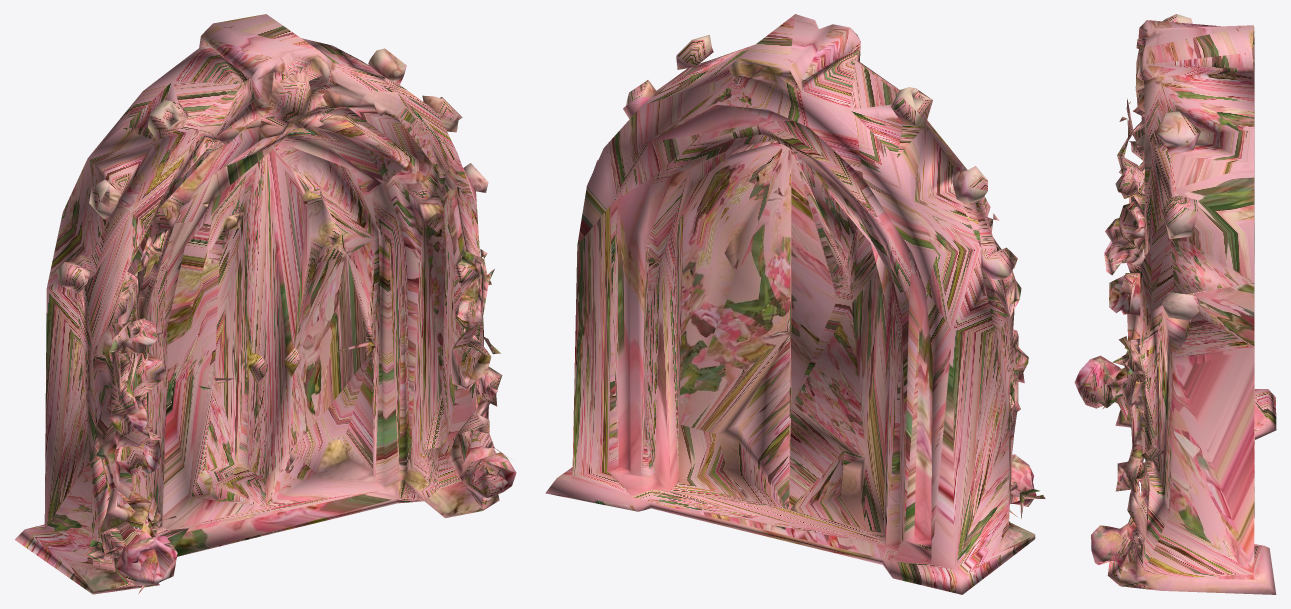
File: _Object_Ornate_2.glb
3 renders of one model, left to right at view 1: azimuth 30°, elevation 25°; view 2: azimuth 150°, elevation 25°; view 3: azimuth 270°, elevation 25°, orthographic. The views are drawn at different scales.
Visible parts, largest first — view 1: _Object_Ornate_2; view 2: _Object_Ornate_2; view 3: _Object_Ornate_2.
Part boxes in pixels (box(x1,y1,x2,y2)): _Object_Ornate_2: box(14, 14, 516, 594); _Object_Ornate_2: box(545, 14, 1045, 594); _Object_Ornate_2: box(1074, 14, 1276, 594).
Size of the model in its own units: 1.87 by 2 by 0.7912.
Materials: 1 (1 with a texture image).
